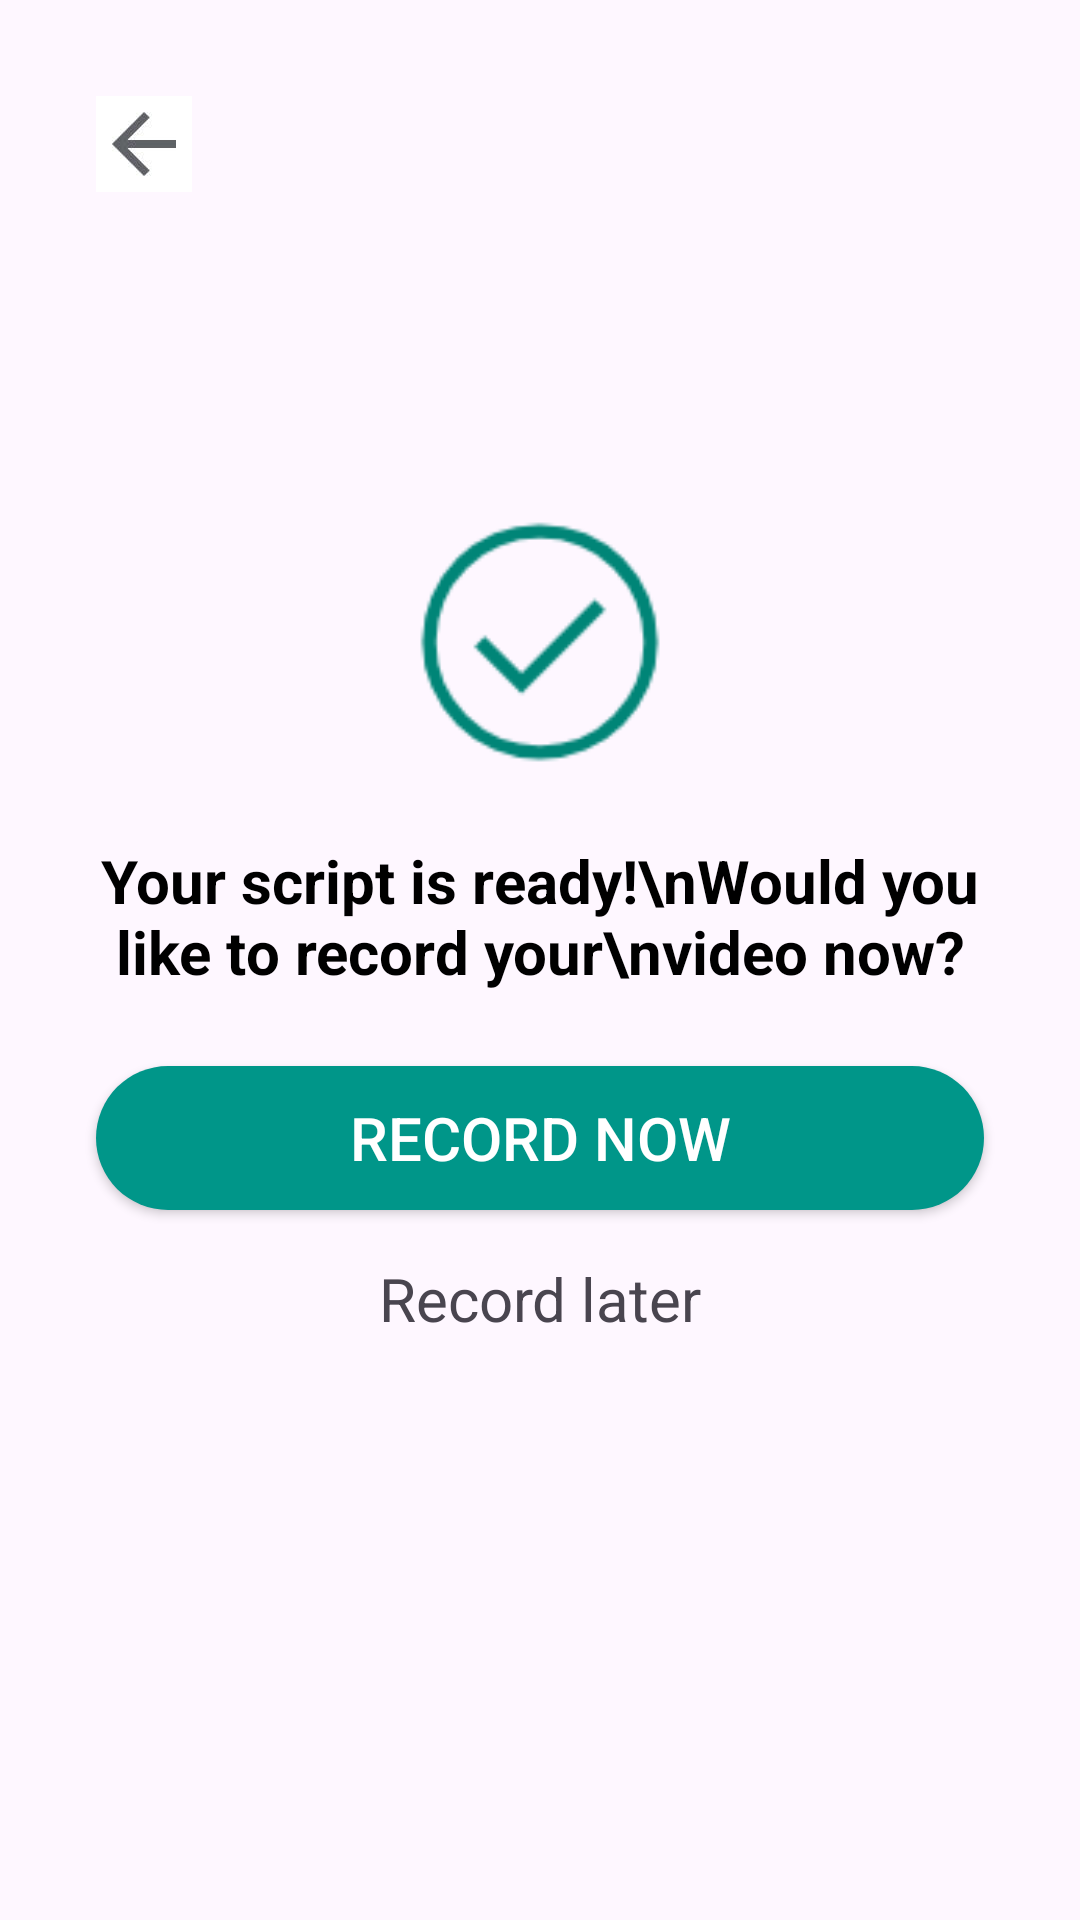

Screen size 1080x1920. Icon name, then its box in pixels as (x1, y1, x2, y2):
Back: (112, 112, 176, 176)
Check Icon: (420, 522, 660, 762)
